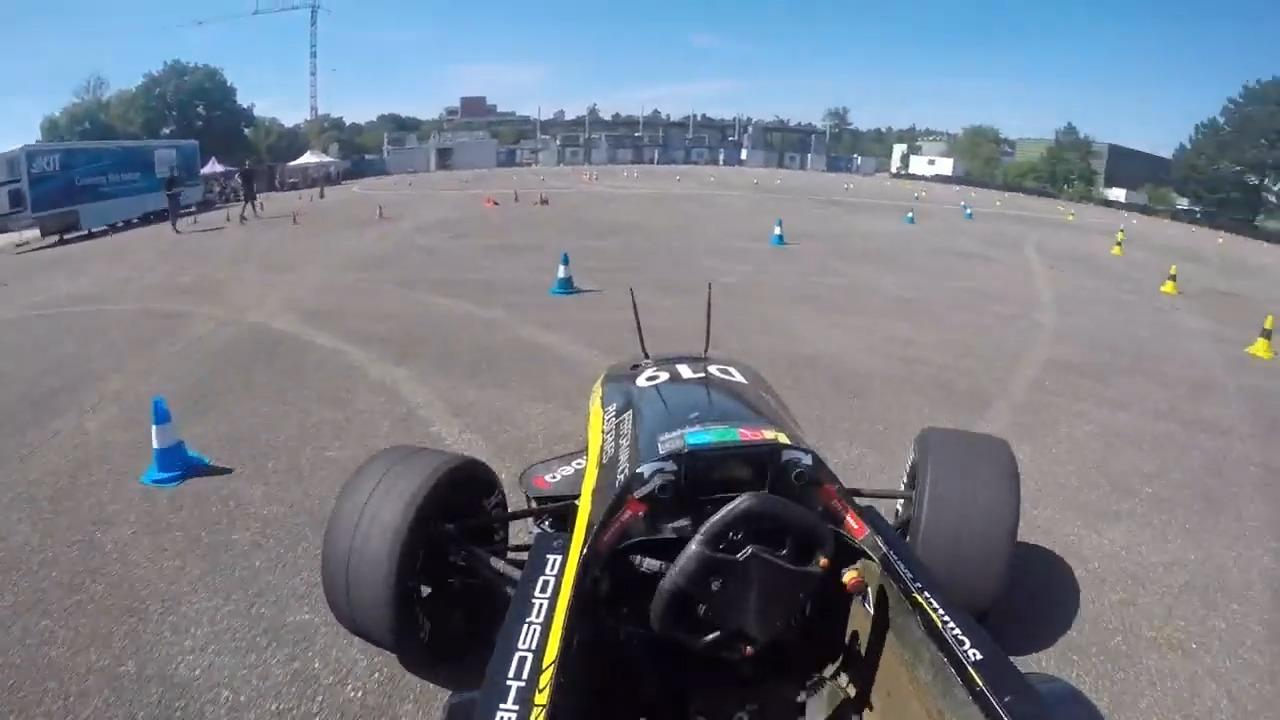blue_cone: (134, 385, 213, 485), (547, 252, 577, 295), (769, 215, 789, 245), (903, 204, 916, 225), (965, 203, 973, 221), (959, 197, 968, 210)
yellow_cone: (1238, 306, 1278, 362), (1155, 259, 1181, 295), (1107, 234, 1123, 256), (1115, 223, 1127, 240), (1067, 208, 1077, 221)
